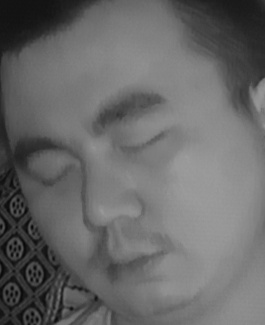blink: (121, 125, 173, 160), (33, 156, 83, 190)
mouth: (89, 235, 174, 289)
